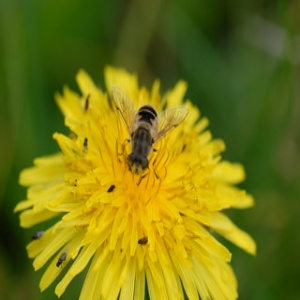bee: (110, 84, 191, 195)
